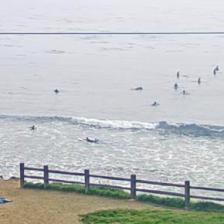surfer: (86, 138, 98, 144), (213, 67, 218, 75), (152, 102, 160, 106), (54, 88, 60, 93), (30, 125, 36, 130), (176, 71, 180, 78), (197, 77, 201, 84), (135, 87, 144, 90), (214, 65, 219, 70), (174, 83, 178, 89), (182, 90, 186, 95)
